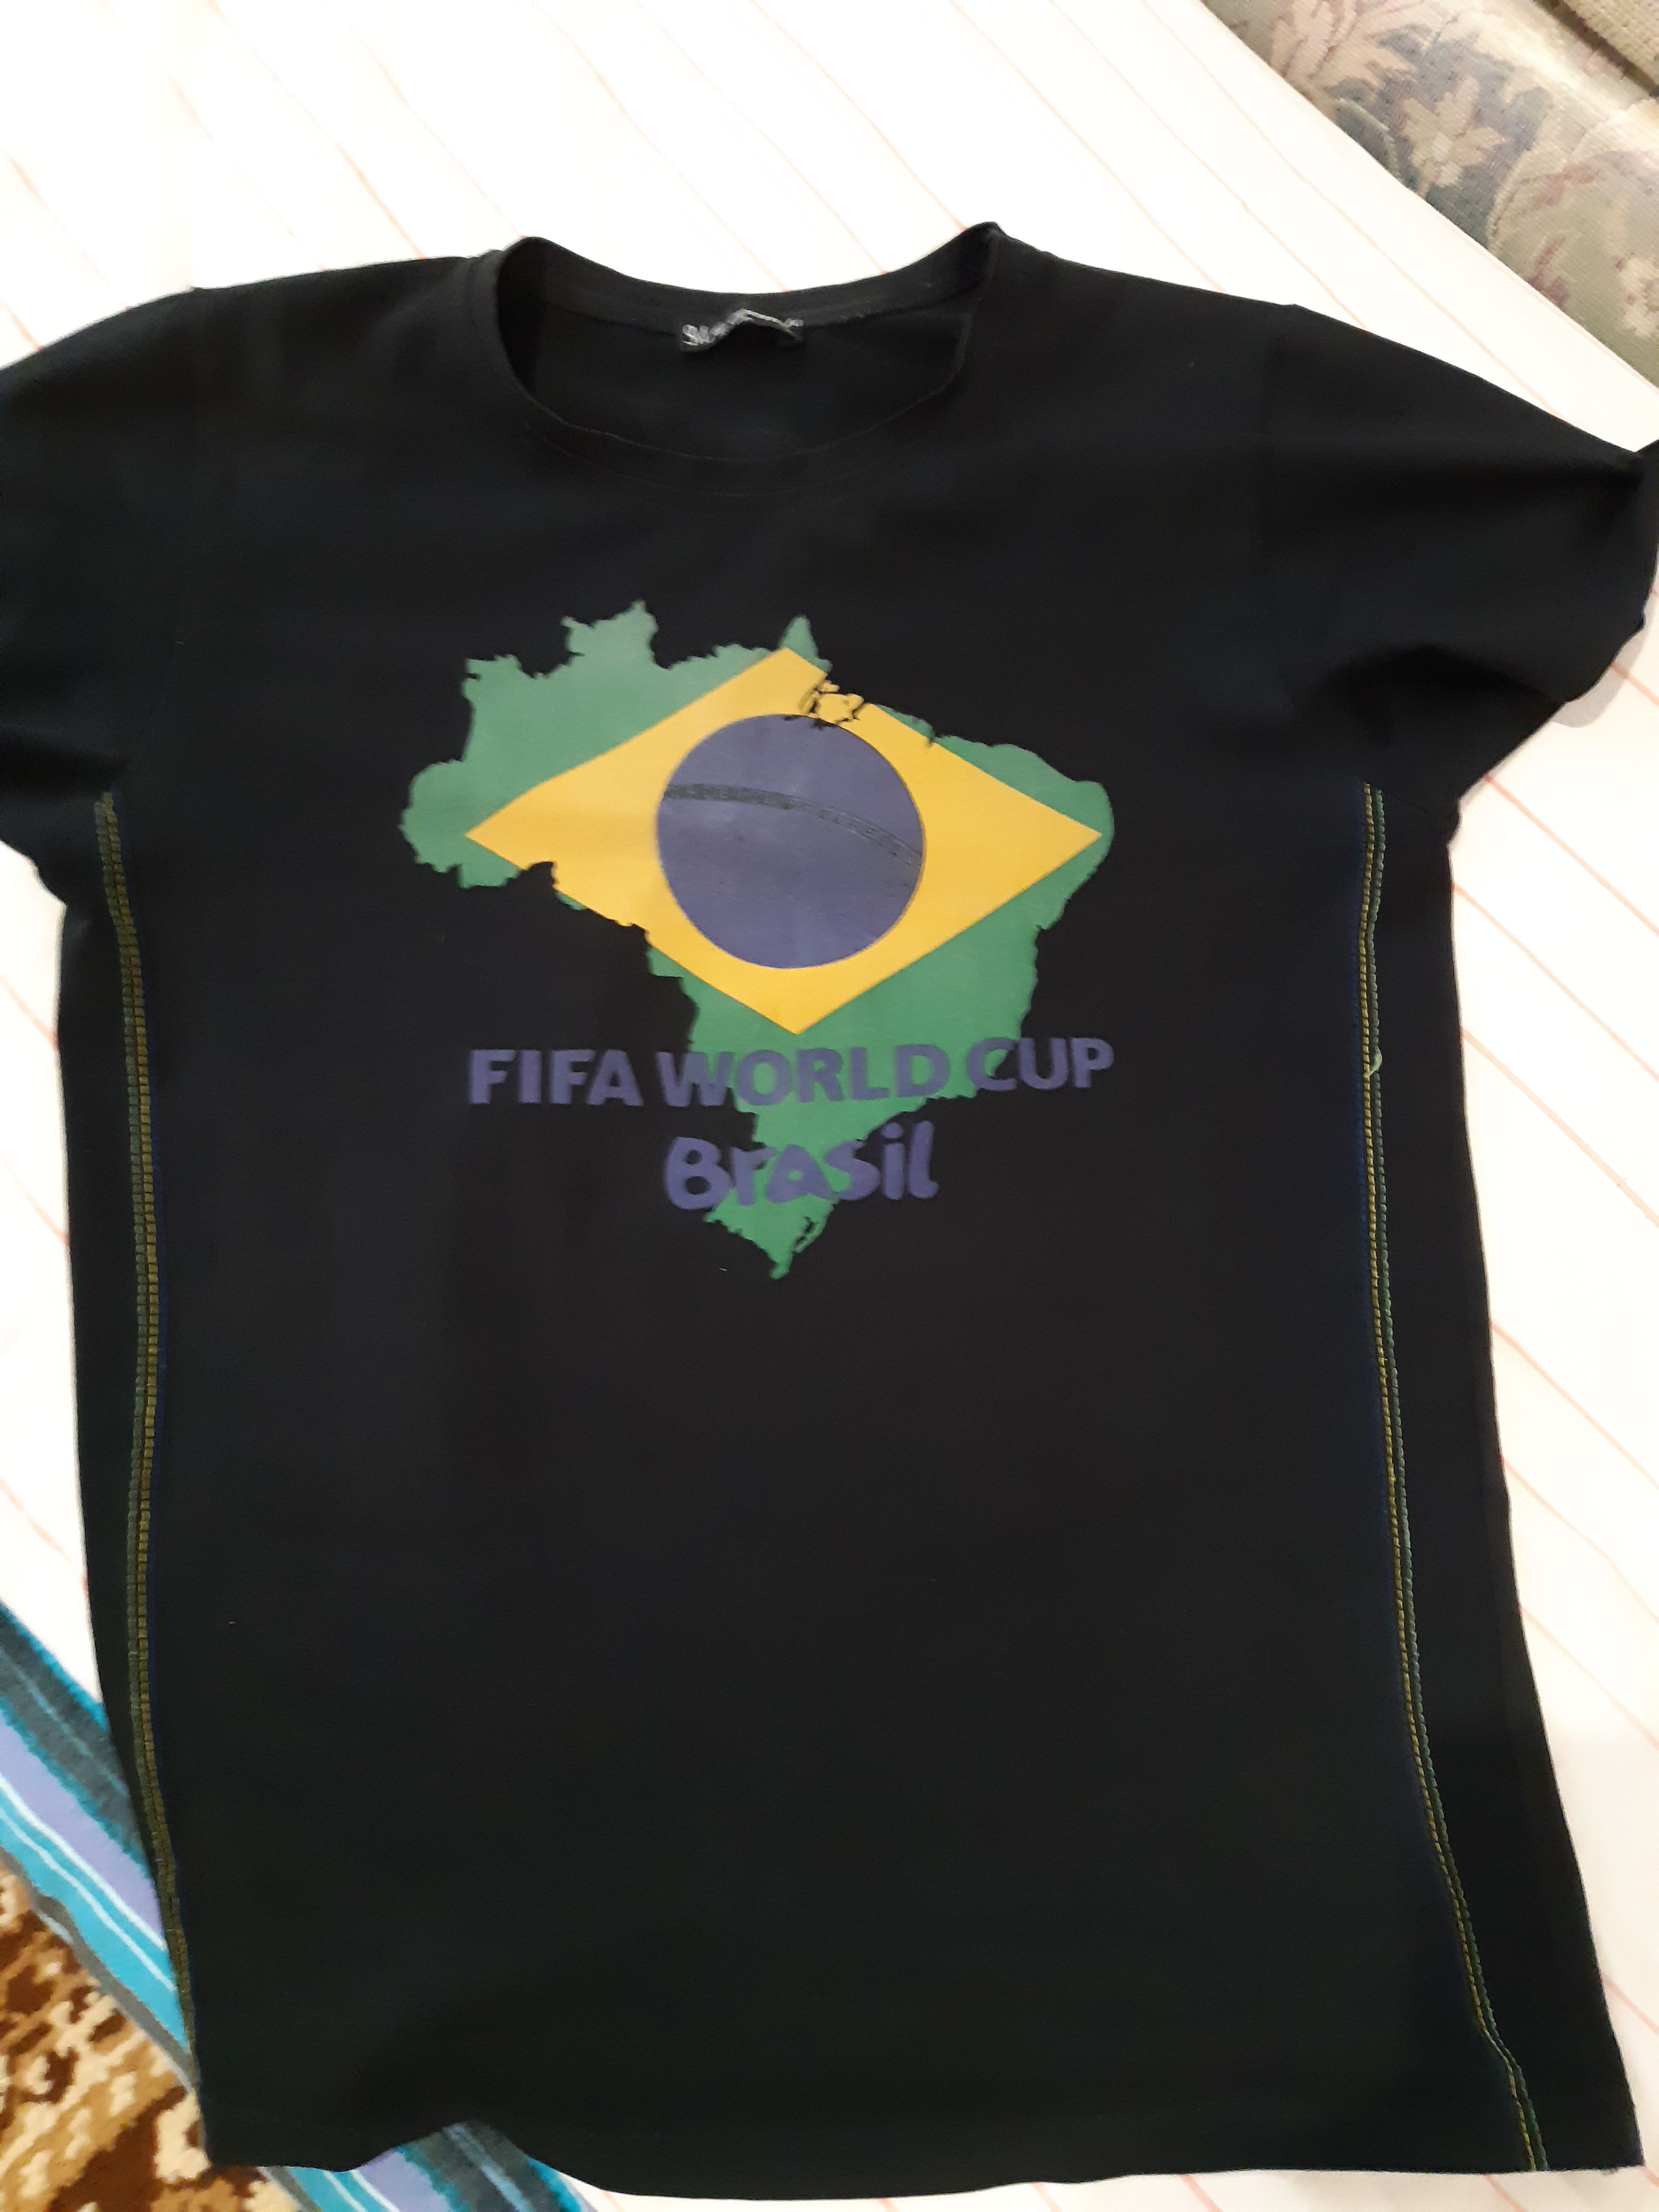clothes: (17, 211, 1647, 2179)
